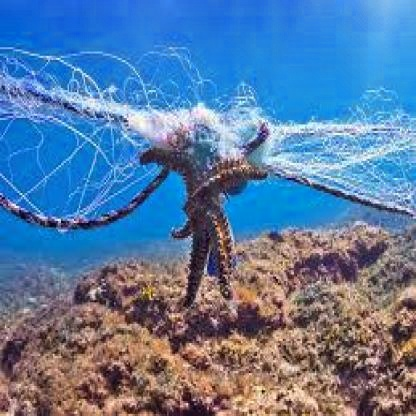net: (0, 40, 416, 240)
